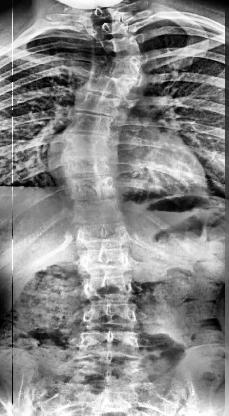Vertebrae: (75, 328, 146, 360), (78, 295, 142, 327), (77, 268, 139, 300), (68, 196, 130, 226), (74, 244, 140, 272), (82, 72, 146, 100), (72, 222, 136, 250), (74, 92, 140, 119), (66, 174, 121, 202), (64, 112, 128, 136), (62, 152, 120, 178), (60, 132, 121, 156), (95, 34, 141, 58), (100, 54, 146, 76)
